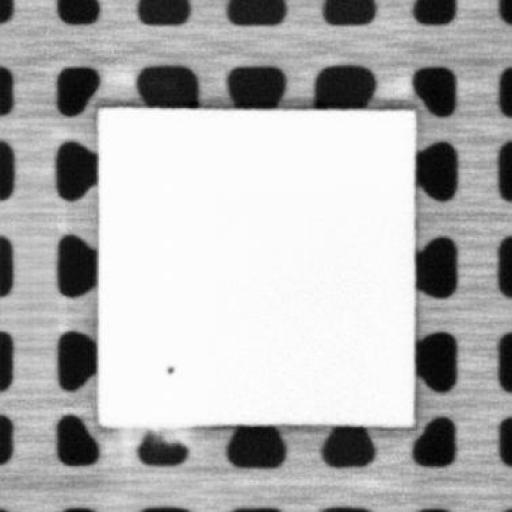DIE_INK: (163, 362, 176, 374)
